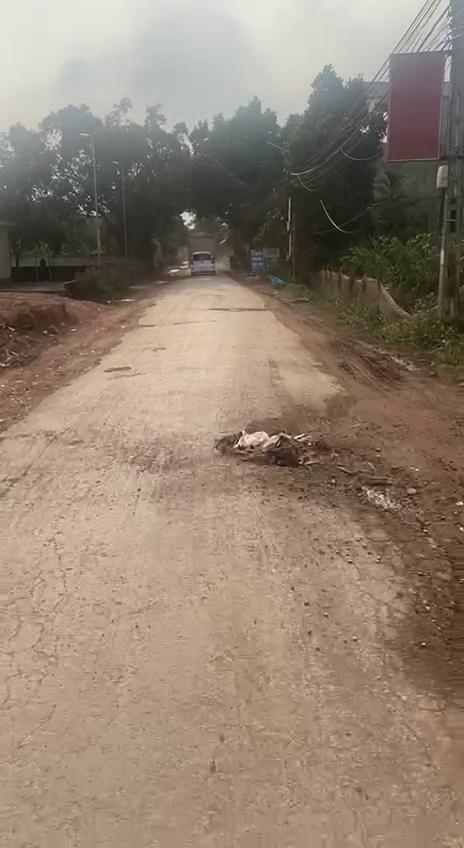pothole: (215, 428, 338, 466)
